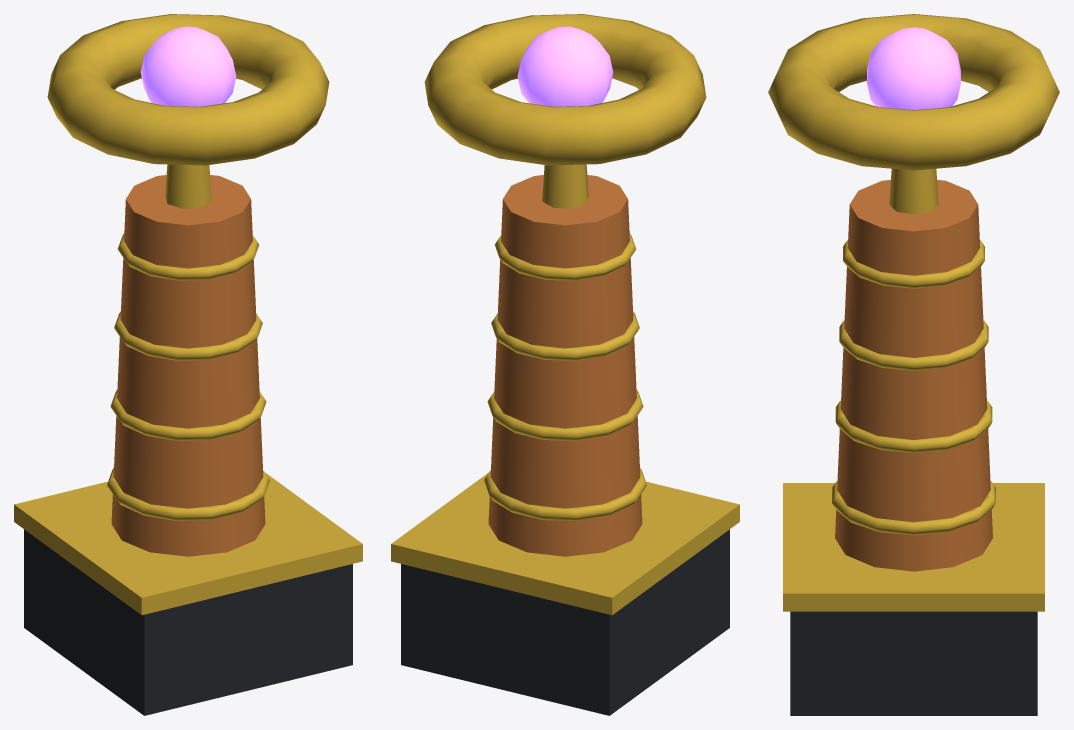
File: mount-tesla.glb
3 renders of one model, left to right at view 1: azimuth 30°, elevation 25°; view 2: azimuth 150°, elevation 25°; view 3: azimuth 270°, elevation 25°, orthographic. The views are drawn at different scales.
Visible parts, largest first — view 1: Mesh_Column, Mesh_Housing, Mesh_Ring, Mesh_HousingTrim, Mesh_Orb, Mesh_Band0, Mesh_Band1, Mesh_Band2, Mesh_Band3, Mesh_Stem; view 2: Mesh_Column, Mesh_Housing, Mesh_Ring, Mesh_HousingTrim, Mesh_Orb, Mesh_Band0, Mesh_Band1, Mesh_Band2, Mesh_Band3, Mesh_Stem; view 3: Mesh_Column, Mesh_Ring, Mesh_Housing, Mesh_HousingTrim, Mesh_Orb, Mesh_Band0, Mesh_Band1, Mesh_Band2, Mesh_Band3, Mesh_Stem.
Boxes of the visible parts, x1,y1,x2,y2 form: Mesh_Column: (111,175,265,556); Mesh_Housing: (24,529,352,715); Mesh_Ring: (47,14,329,165); Mesh_HousingTrim: (14,472,362,615); Mesh_Orb: (140,26,236,106); Mesh_Band0: (107,468,269,520); Mesh_Band1: (110,390,266,440); Mesh_Band2: (114,311,262,360); Mesh_Band3: (117,233,259,280); Mesh_Stem: (165,164,211,208); Mesh_Column: (488,175,642,556); Mesh_Housing: (401,529,729,715); Mesh_Ring: (424,14,706,165); Mesh_HousingTrim: (391,472,739,615); Mesh_Orb: (517,26,613,106); Mesh_Band0: (484,468,646,520); Mesh_Band1: (487,390,643,440); Mesh_Band2: (491,311,639,360); Mesh_Band3: (494,233,636,280); Mesh_Stem: (542,164,588,208); Mesh_Column: (835,179,992,571); Mesh_Ring: (768,14,1059,170); Mesh_Housing: (790,611,1037,715); Mesh_HousingTrim: (783,483,1044,611); Mesh_Orb: (867,27,960,109); Mesh_Band0: (832,481,995,535); Mesh_Band1: (835,401,992,452); Mesh_Band2: (839,320,988,370); Mesh_Band3: (843,240,984,288); Mesh_Stem: (889,168,938,214).
Bounding box in the file's own units: 1.18 × 2.82 × 1.18.
